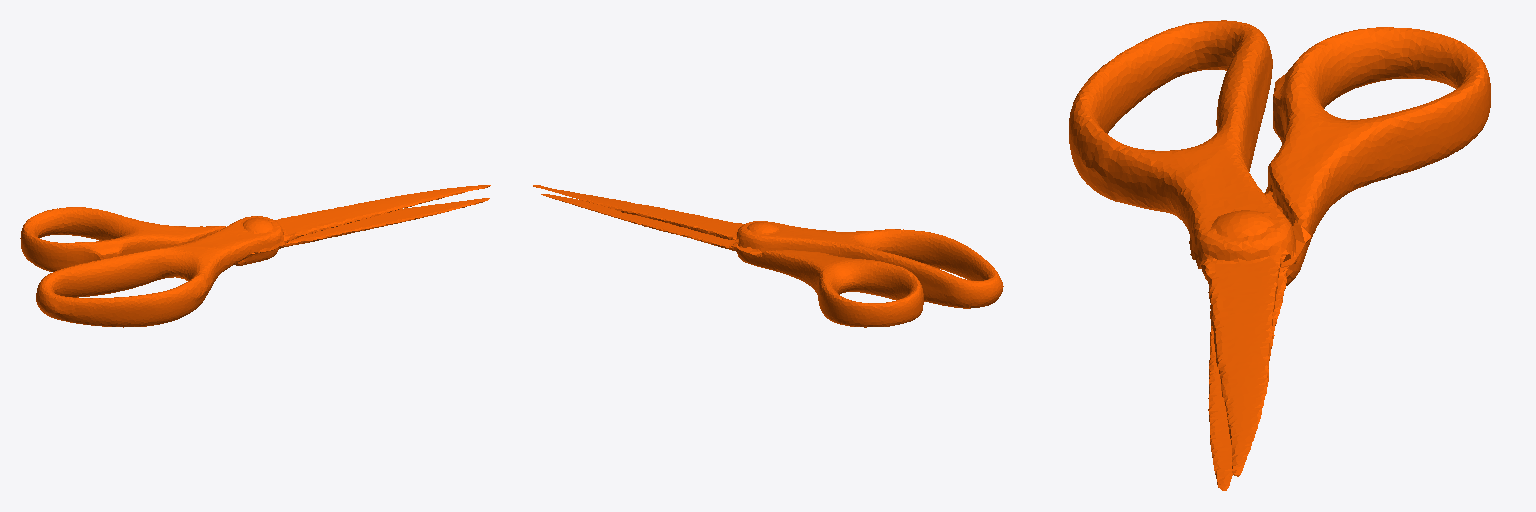
The robot description file, URDF, robot "scissors":
<?xml version="1.0" ?>
<!-- A custom urdf with copilot generated -->
<robot name="scissors">
   <material name="obj_color">
      <color rgba="1.0 0.423529411765 0.0392156862745 1.0"/>
   </material>
   <material name="obj_bottom_color">
      <color rgba="0.4 0.8 1.0 1.0"/>
   </material>
   <material name="obj_top_color">
      <color rgba="1.0 0.6 1.0 1.0"/>
   </material>
   <link name="top">
      <inertial>
         <origin rpy="0 0 0" xyz="-0.039042 0.016078 0.003167"/>
         <mass value="0.042293"/>
         <inertia ixx="0.0000084" ixy="0.0000123" ixz="0.0000030" iyy="0.0000426" iyz="-0.0000011" izz="0.0000499"/>
      </inertial>
      <visual>
         <origin rpy="0 0 0" xyz="0 0 0"/>
         <geometry>
            <mesh filename="top.obj" scale="0.001 0.001 0.001"/>
         </geometry>
         <material name="obj_color"/>
      </visual>
      
      
      
      
      
      
      
      
      
      
      
      
      
      
      
      
      
   </link>
   <link name="bottom">
      <inertial>
         <origin rpy="0 0 0" xyz="-0.044610 -0.009283 0.002522"/>
         <mass value="0.045393"/>
         <inertia ixx="0.0000063" ixy="-0.0000050" ixz="-0.0000019" iyy="0.0000575" iyz="-0.0000007" izz="0.0000628"/>
      </inertial>
      <visual>
         <origin rpy="0 0 0" xyz="0 0 0"/>
         <geometry>
            <mesh filename="bottom.obj" scale="0.001 0.001 0.001"/>
         </geometry>
         <material name="obj_color"/>
      </visual>
      
      
      
      
      
      
      
      
      
      
      
      
      
   </link>
   <joint name="scissors_joint" type="revolute">
      <origin xyz="0 0 0"/>
      <axis xyz="0 0 -1"/>
      <parent link="bottom"/>
      <child link="top"/>
      <dynamics damping="0.0" friction="0.000"/>
      <limit effort="1000" velocity="200" lower="0" upper="0.5"/>
   </joint>
</robot>

--- Facts derived from the render (not from the file) ---
3 views of the same robot in one strip: view 1: azimuth 30°, elevation 25°; view 2: azimuth 150°, elevation 25°; view 3: azimuth 270°, elevation 25° (orthographic).
Robot: scissors — 2 links, 1 joints (1 revolute); root link bottom; default pose: all joints at 0.
Visible links, largest first — view 1: bottom, top; view 2: bottom, top; view 3: bottom, top.
Link boxes in pixels (x1,y1,x2,y2): bottom: (36,185,490,327); top: (20,198,489,271); bottom: (533,185,1003,308); top: (541,194,923,327); bottom: (1069,20,1295,476); top: (1208,27,1490,490).
Bounding box of the posed robot: 0.2047 × 0.0831 × 0.0193 m (x, y, z).
Meshes: 2 distinct files referenced, 2 mesh visuals loaded (2 OBJ).
